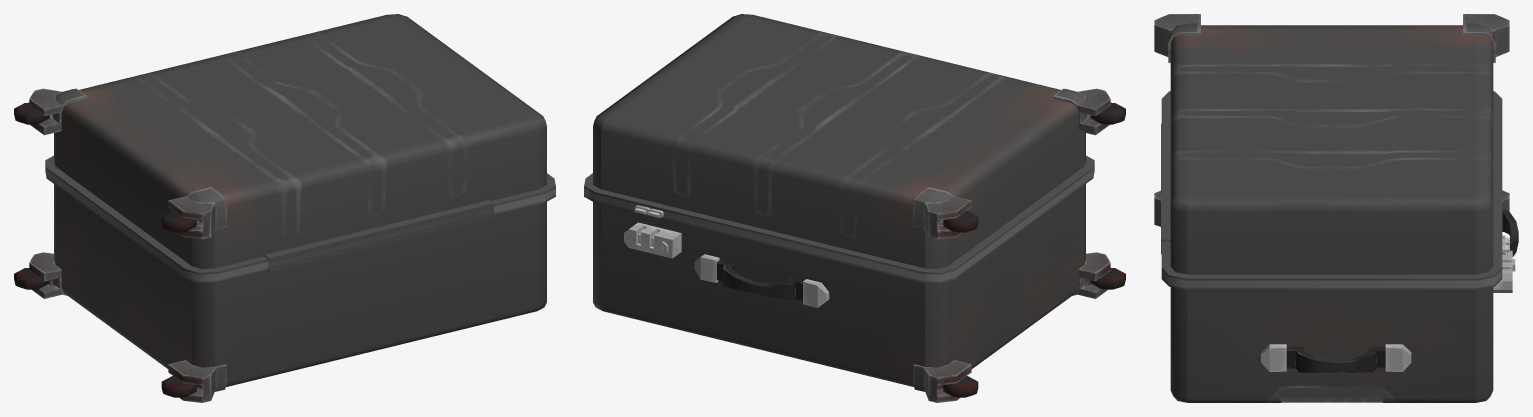
File: suitcase.dae
The picture shows the model from 3 angles, left to right: view 1: azimuth 30°, elevation 25°; view 2: azimuth 150°, elevation 25°; view 3: azimuth 270°, elevation 25°; orthographic projection. The views are drawn at different scales.
Visible parts, largest first — view 1: node0; view 2: node0; view 3: node0.
Part boxes in pixels (<box>): node0: <box>14,14,555,402</box>; node0: <box>584,14,1125,402</box>; node0: <box>1154,14,1518,402</box>.
Size of the model in its own units: 0.55 by 0.4 by 0.25.
1 material, 1 textured.
